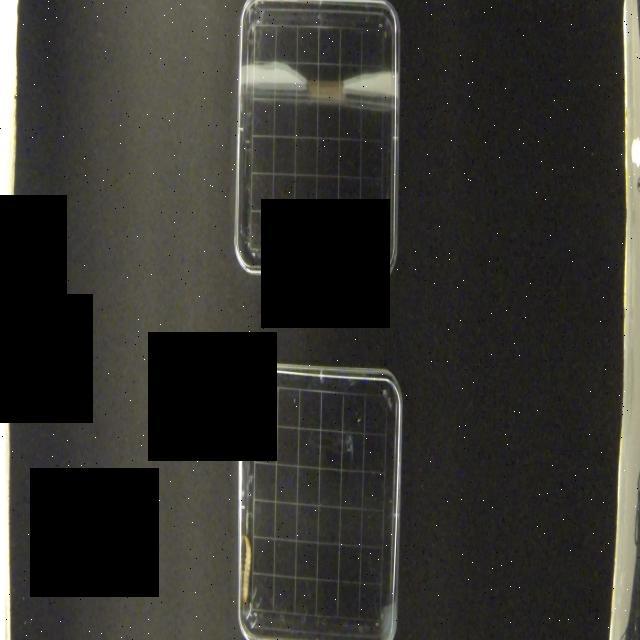larva: (347, 240, 384, 264), (242, 536, 252, 604)
